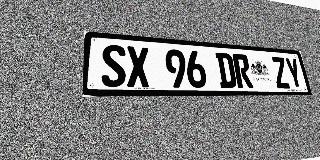6: (185, 50, 208, 88)
9: (165, 49, 188, 88)
D: (215, 52, 237, 88)
R: (232, 54, 254, 88)
S: (101, 44, 126, 87)
X: (126, 46, 150, 87)
Y: (284, 57, 304, 88)
Z: (270, 56, 291, 88)
